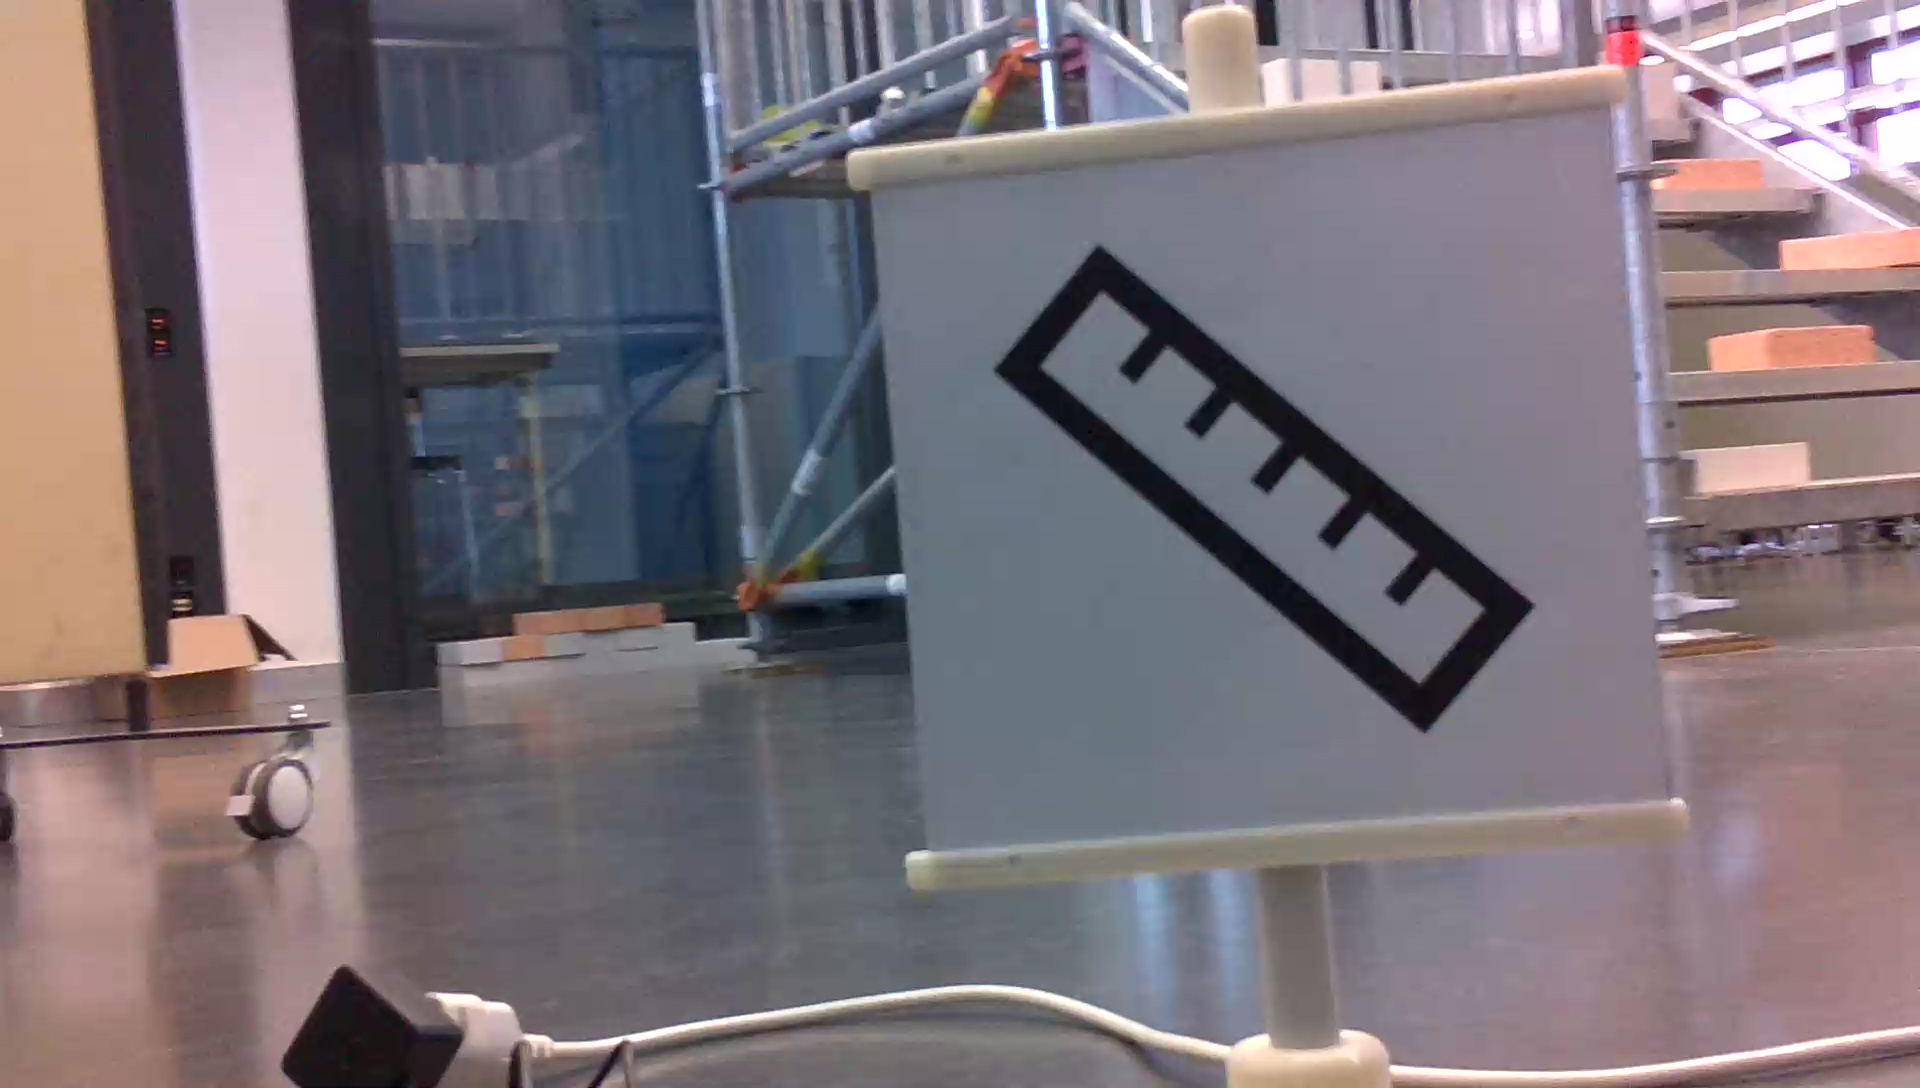brick: (1716, 328, 1880, 371), (1685, 440, 1804, 495), (1762, 233, 1920, 264), (1650, 150, 1762, 190)
ruler: (990, 229, 1542, 731)
